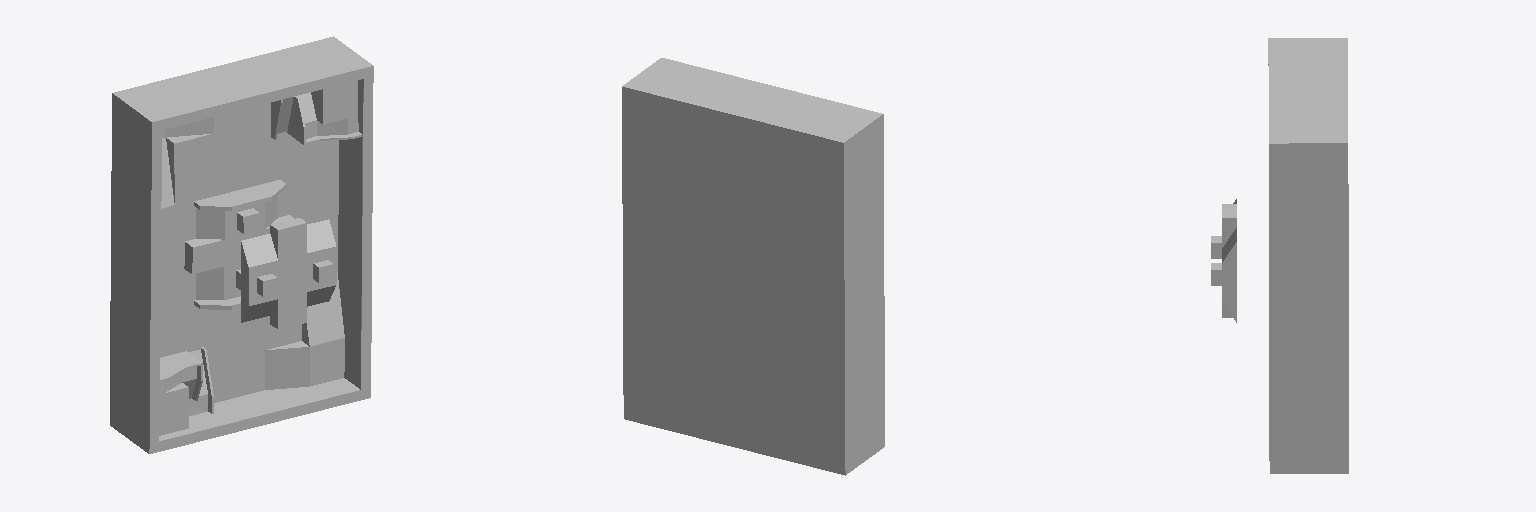
File: final_map.obj
3 renders of one model, left to right at view 1: azimuth 30°, elevation 25°; view 2: azimuth 150°, elevation 25°; view 3: azimuth 270°, elevation 25°, orthographic.
Bounding box in the file's own units: 11.18 × 15.95 × 5.98.